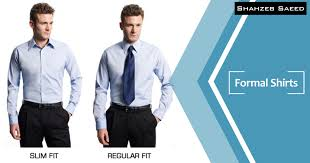F_shirt: (93, 34, 170, 120), (6, 34, 81, 117)
F_tie: (124, 41, 139, 107)
